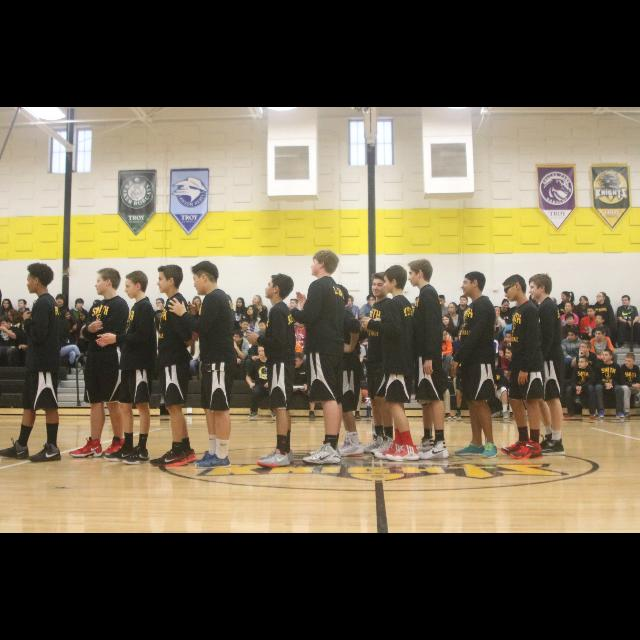head: (192, 262, 218, 296), (310, 250, 340, 278), (156, 266, 184, 294), (95, 268, 121, 296), (384, 264, 408, 294), (264, 275, 294, 299), (124, 270, 148, 300), (461, 271, 487, 297), (408, 260, 434, 286), (26, 268, 50, 296), (529, 274, 553, 300), (504, 275, 526, 303), (372, 272, 391, 298), (292, 352, 304, 370), (580, 340, 592, 356), (624, 354, 636, 368), (602, 349, 614, 363), (504, 346, 516, 360), (464, 354, 476, 368), (0, 317, 12, 331), (578, 357, 590, 369), (233, 331, 244, 344), (568, 328, 578, 342), (258, 345, 268, 359), (596, 328, 606, 340), (596, 314, 606, 326), (492, 307, 502, 319), (448, 303, 458, 315), (438, 330, 448, 342), (295, 316, 305, 328), (258, 320, 268, 332), (246, 306, 258, 316), (56, 294, 66, 306), (78, 310, 88, 322), (565, 314, 575, 326), (502, 299, 511, 311), (438, 295, 447, 307), (368, 294, 377, 306), (22, 322, 31, 334), (597, 293, 607, 303), (561, 292, 571, 302), (442, 316, 452, 326), (290, 299, 300, 309), (252, 296, 262, 306), (74, 300, 84, 310), (18, 300, 28, 310), (346, 295, 354, 307), (588, 306, 596, 318), (506, 332, 514, 344), (459, 296, 468, 306), (61, 312, 71, 321), (622, 296, 630, 306), (580, 296, 588, 306), (566, 302, 574, 312), (345, 296, 353, 306), (241, 320, 249, 330), (236, 298, 244, 308), (192, 298, 202, 306), (156, 299, 164, 309), (3, 300, 11, 310), (492, 356, 500, 366), (186, 333, 194, 343), (46, 318, 54, 326)
person: (284, 249, 346, 467), (168, 260, 232, 470), (1, 262, 64, 464), (94, 271, 156, 467), (68, 267, 130, 459), (362, 265, 421, 463), (149, 264, 199, 468), (245, 273, 295, 469), (404, 256, 450, 462), (454, 272, 498, 460), (500, 274, 544, 461), (361, 271, 399, 457), (327, 283, 367, 459), (530, 272, 566, 458), (245, 342, 283, 420), (282, 352, 318, 421), (452, 354, 488, 420), (595, 348, 627, 419), (478, 354, 510, 421), (564, 356, 596, 420), (558, 327, 588, 383), (54, 323, 86, 375), (584, 326, 618, 372), (571, 340, 599, 394), (500, 346, 530, 396), (588, 292, 616, 344), (498, 330, 526, 382), (224, 330, 252, 382), (441, 302, 465, 361), (358, 293, 386, 341), (16, 318, 42, 369), (428, 330, 454, 380), (286, 316, 312, 366), (250, 319, 276, 369), (176, 331, 200, 385), (282, 298, 310, 344), (449, 295, 473, 347), (240, 306, 266, 354), (580, 306, 604, 356), (436, 314, 460, 364), (336, 294, 360, 344), (72, 309, 96, 359), (0, 315, 22, 369), (483, 306, 507, 354), (185, 296, 209, 344), (558, 313, 582, 361), (230, 318, 253, 366), (556, 292, 578, 342), (590, 312, 612, 362), (570, 295, 594, 339), (428, 294, 450, 342), (150, 298, 172, 346), (230, 298, 252, 344), (49, 292, 71, 338), (492, 299, 516, 341), (557, 302, 579, 344), (57, 311, 79, 353), (248, 294, 268, 340), (0, 299, 20, 345), (69, 298, 91, 339), (12, 300, 34, 340)
